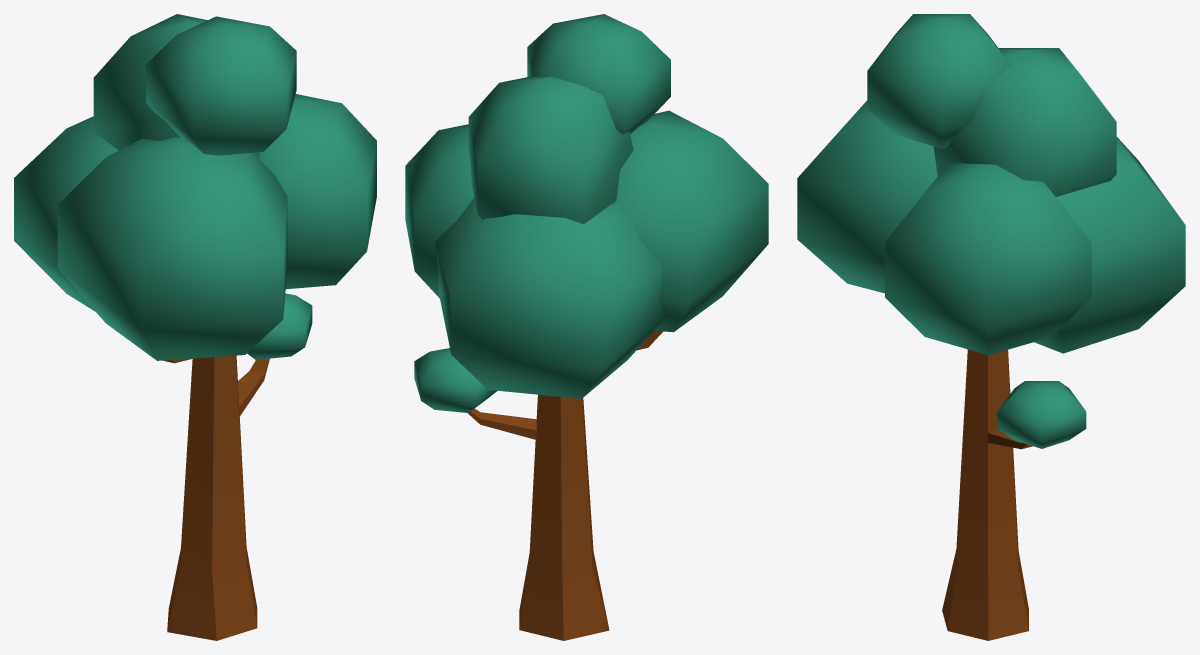
Rendered from Tree_Forest_Model.fbx.
3 renders of one model, left to right at view 1: azimuth 30°, elevation 25°; view 2: azimuth 150°, elevation 25°; view 3: azimuth 270°, elevation 25°, orthographic. The views are drawn at different scales.
Parts seen in each view (by area): view 1: pSphere7; view 2: pSphere7; view 3: pSphere7.
Part boxes in pixels (x1=…): pSphere7: x1=14, y1=14, x2=376, y2=640; pSphere7: x1=405, y1=14, x2=768, y2=640; pSphere7: x1=797, y1=14, x2=1185, y2=640.
Size of the model in its own units: 10.69 by 20.3 by 11.99.
2 materials, 2 textured.
